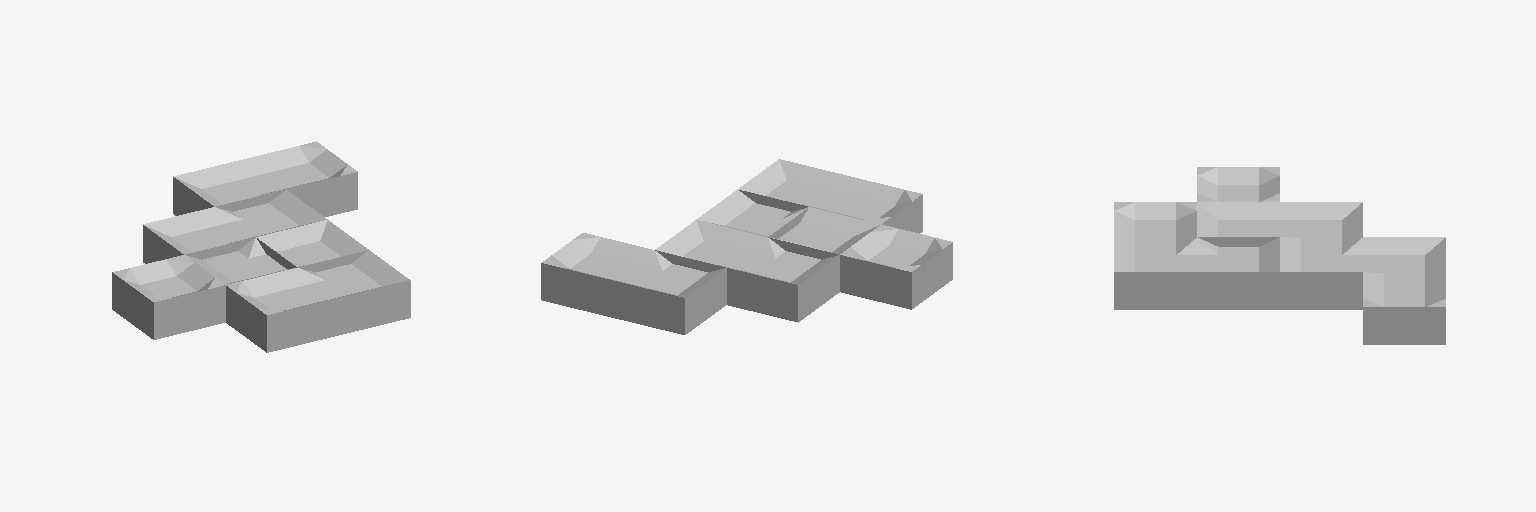
Rendered from 17s_path.obj.
3 renders of one model, left to right at view 1: azimuth 30°, elevation 25°; view 2: azimuth 150°, elevation 25°; view 3: azimuth 270°, elevation 25°, orthographic.
Parts seen in each view (by area): view 1: hole.0.1_Cube.184, ending.1.0_ending.365, corner.2.0_corner.912, ending.3.3_ending.366, corner.1.2_corner.911, corner.2.3_corner.915, corner.2.2_corner.914, corner.2.1_corner.913, corner.1.1_corner.910; view 2: hole.0.1_Cube.184, corner.1.2_corner.911, corner.2.3_corner.915, ending.3.3_ending.366, corner.2.0_corner.912, corner.2.2_corner.914, ending.1.0_ending.365, corner.1.1_corner.910, corner.2.1_corner.913; view 3: corner.2.1_corner.913, corner.2.2_corner.914, corner.2.0_corner.912, ending.3.3_ending.366, corner.2.3_corner.915, ending.1.0_ending.365, corner.1.2_corner.911, corner.1.1_corner.910, hole.0.1_Cube.184.
Boxes of the visible parts, x1=… form: hole.0.1_Cube.184: x1=112, y1=255, x2=225, y2=339; ending.1.0_ending.365: x1=226, y1=268, x2=338, y2=352; corner.2.0_corner.912: x1=298, y1=250, x2=410, y2=334; ending.3.3_ending.366: x1=245, y1=141, x2=357, y2=216; corner.1.2_corner.911: x1=143, y1=207, x2=255, y2=263; corner.2.3_corner.915: x1=173, y1=159, x2=285, y2=215; corner.2.2_corner.914: x1=215, y1=189, x2=327, y2=238; corner.2.1_corner.913: x1=256, y1=220, x2=368, y2=267; corner.1.1_corner.910: x1=185, y1=238, x2=296, y2=284; hole.0.1_Cube.184: x1=840, y1=224, x2=952, y2=309; corner.1.2_corner.911: x1=727, y1=237, x2=839, y2=322; corner.2.3_corner.915: x1=613, y1=250, x2=726, y2=334; ending.3.3_ending.366: x1=541, y1=233, x2=653, y2=317; corner.2.0_corner.912: x1=738, y1=159, x2=850, y2=211; corner.2.2_corner.914: x1=655, y1=220, x2=767, y2=271; ending.1.0_ending.365: x1=812, y1=177, x2=922, y2=233; corner.1.1_corner.910: x1=769, y1=207, x2=880, y2=254; corner.2.1_corner.913: x1=696, y1=189, x2=808, y2=238; corner.2.1_corner.913: x1=1197, y1=237, x2=1279, y2=309; corner.2.2_corner.914: x1=1280, y1=237, x2=1362, y2=309; corner.2.0_corner.912: x1=1114, y1=237, x2=1196, y2=309; ending.3.3_ending.366: x1=1363, y1=272, x2=1445, y2=344; corner.2.3_corner.915: x1=1363, y1=237, x2=1445, y2=281; ending.1.0_ending.365: x1=1114, y1=202, x2=1196, y2=246; corner.1.2_corner.911: x1=1280, y1=202, x2=1362, y2=246; corner.1.1_corner.910: x1=1197, y1=202, x2=1279, y2=246; hole.0.1_Cube.184: x1=1197, y1=167, x2=1279, y2=201.
Bounding box in the file's own units: 8 × 1 × 8.